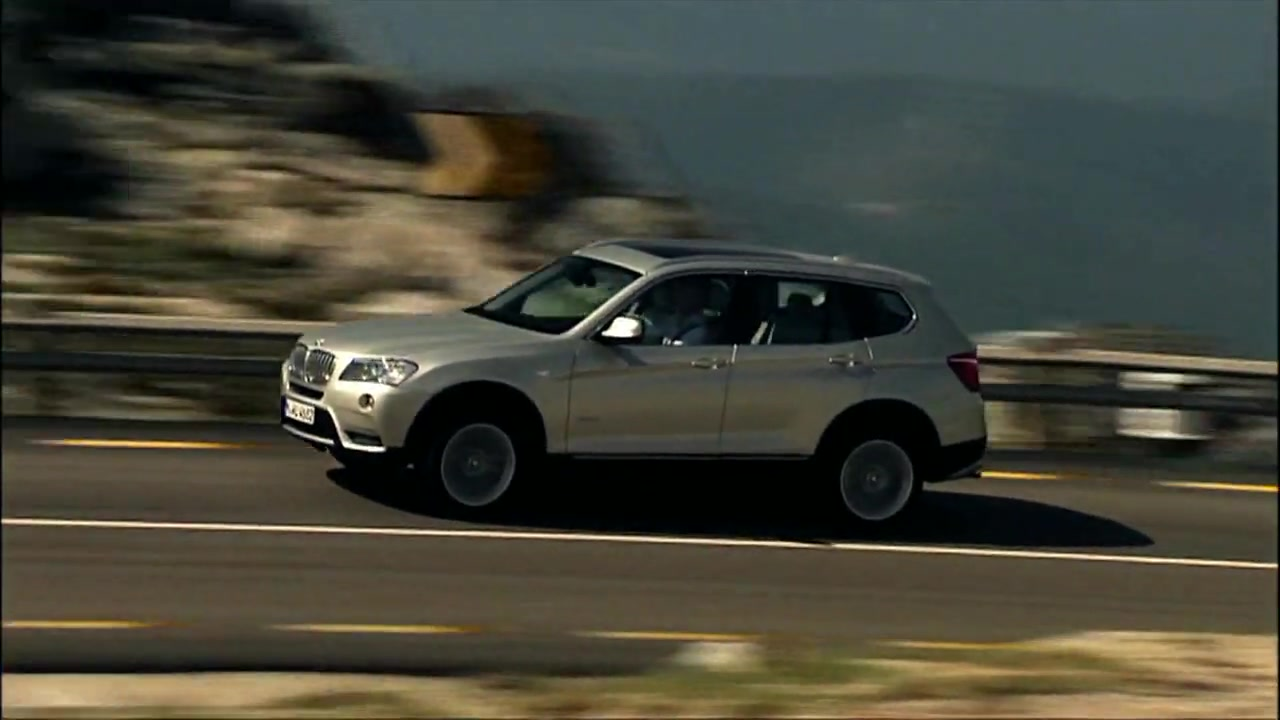car: (279, 234, 991, 533)
